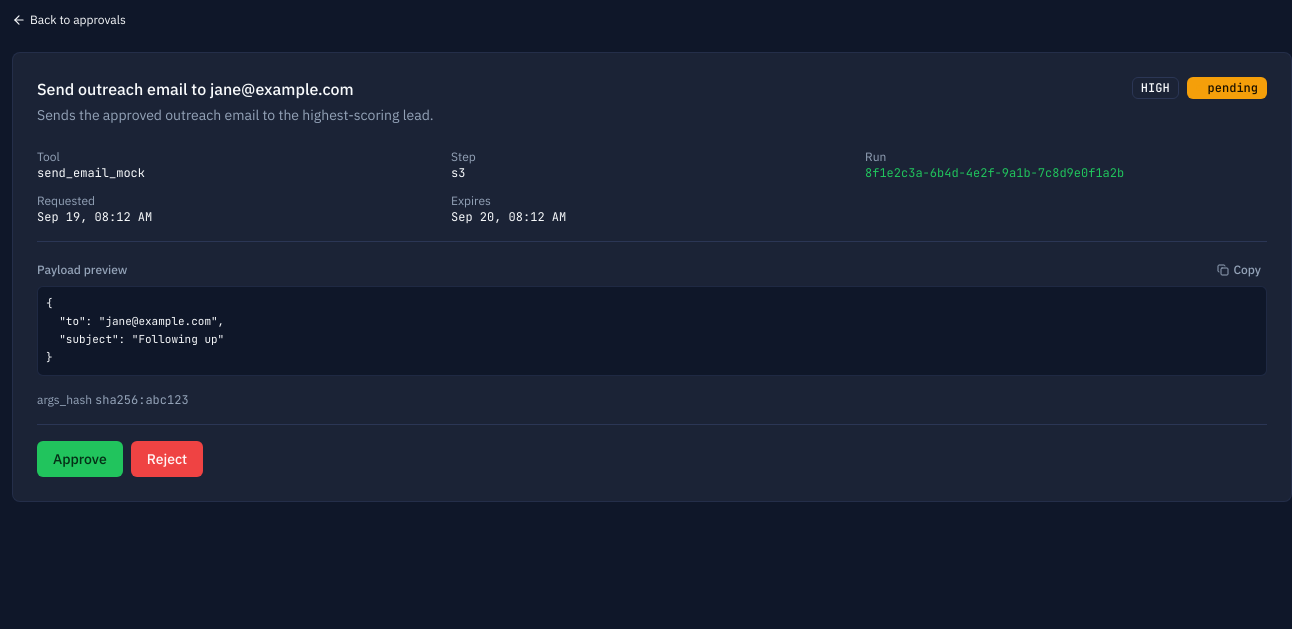
Test: ApprovalDetailView › cancels out of the reject flow without submitting anything
Click the button "Reject" at (167, 458), box [131,440,203,476]
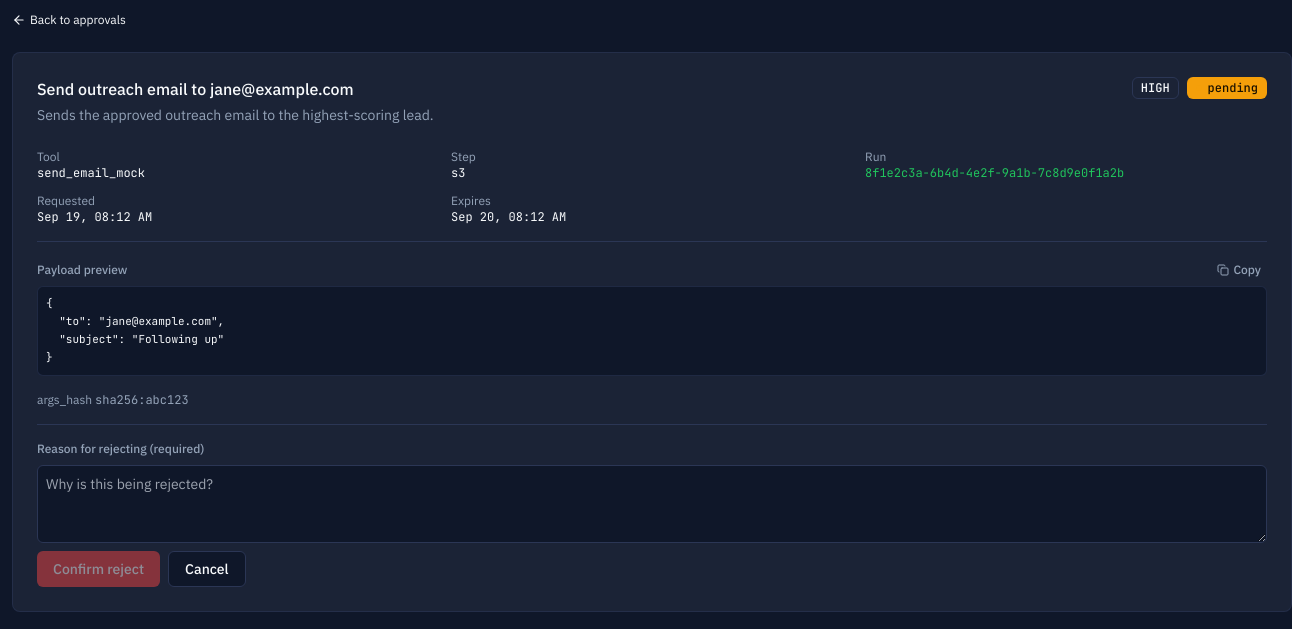
Type "typing something" into the text box labelled "Reason for rejecting (required)" at (652, 504), box [37,464,1267,542]
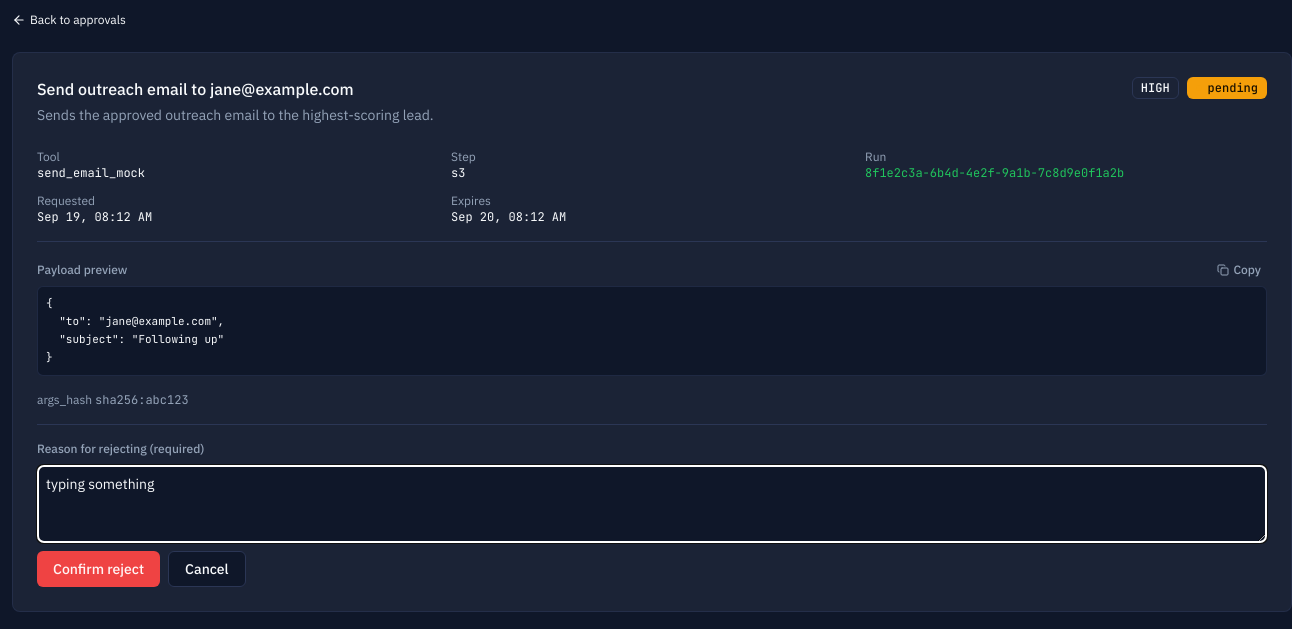
Click the button "Cancel" at (207, 568), box [168,550,246,586]
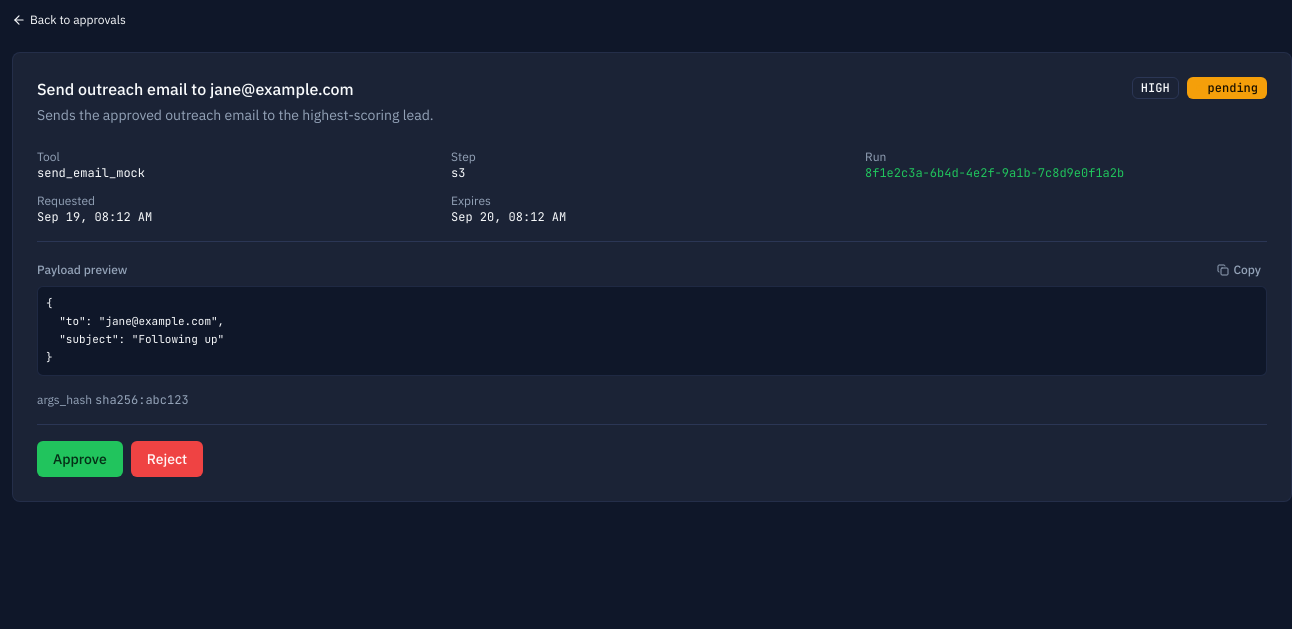
Now the button "Reject" is shown, box [131,440,203,476]
